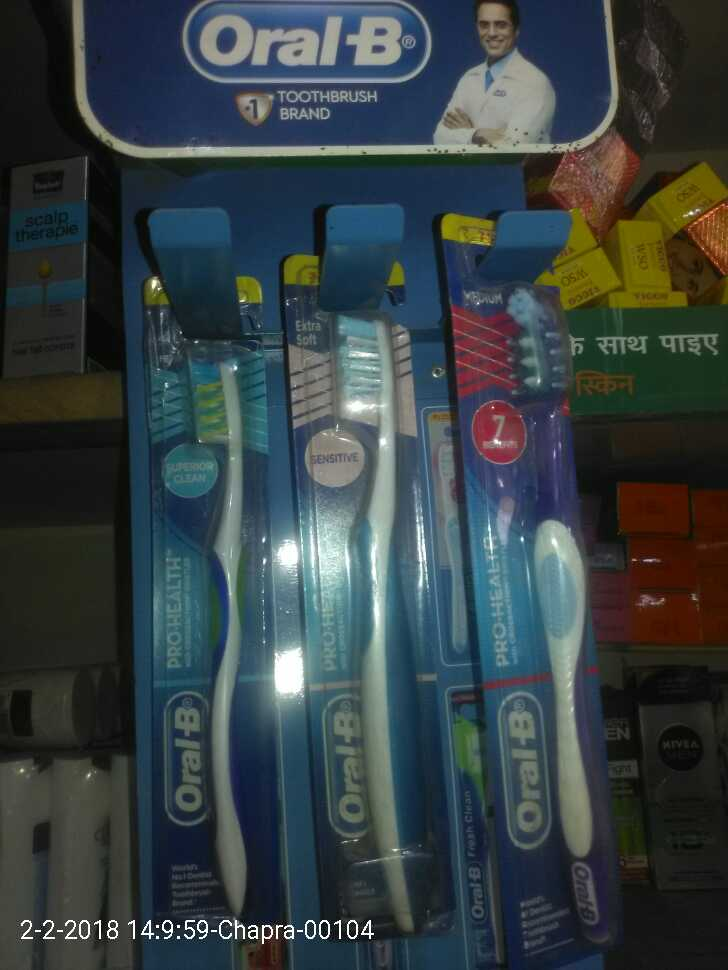oralb: (438, 207, 632, 953), (276, 251, 460, 935), (143, 272, 282, 925)
